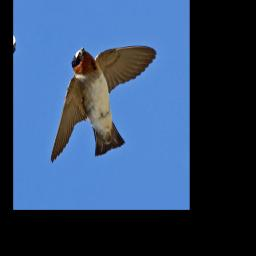Swallow: (47, 29, 160, 180)
